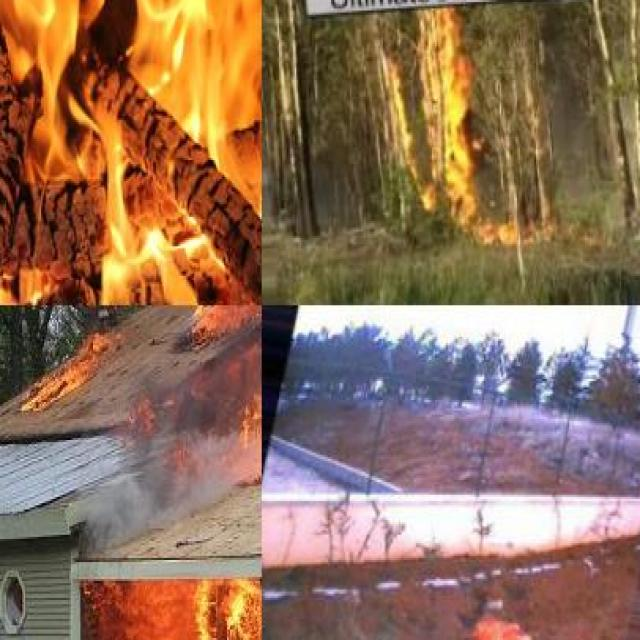fire: (0, 0, 261, 305), (371, 24, 491, 243), (90, 558, 262, 640), (200, 306, 262, 470), (18, 347, 118, 421), (468, 604, 546, 640)
smoke: (82, 390, 241, 550)
